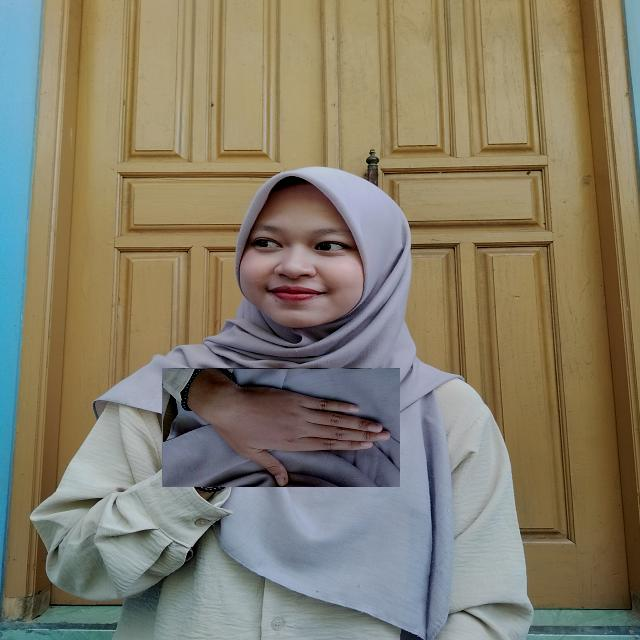tolong: (162, 368, 400, 487)
